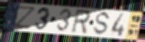3: (55, 8, 72, 34), (34, 6, 51, 32)
4: (109, 12, 126, 38)
R: (70, 9, 92, 36)
S: (92, 11, 112, 36)
Z: (13, 5, 37, 30)
